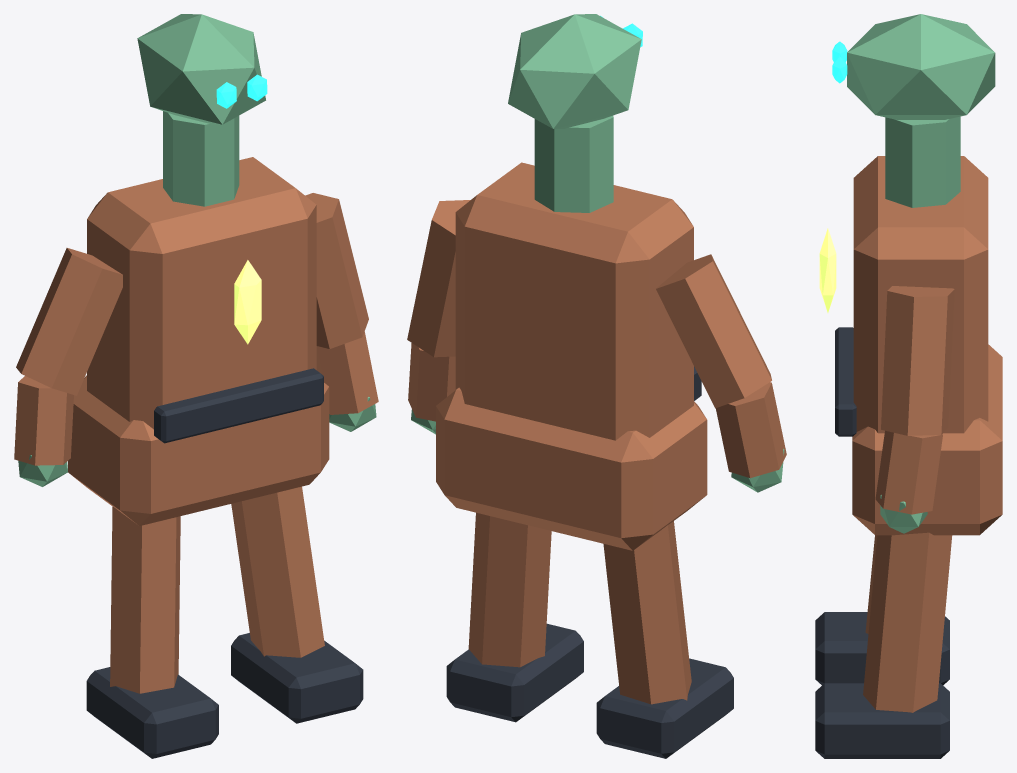
Rendered from npcs_001_seed78877.glb.
3 views of the same model, side by side, from view 1: azimuth 30°, elevation 25°; view 2: azimuth 150°, elevation 25°; view 3: azimuth 270°, elevation 25° (orthographic). The views are drawn at different scales.
Visible parts, largest first — view 1: npcs_001_seed78877; view 2: npcs_001_seed78877; view 3: npcs_001_seed78877.
Part boxes in pixels (bbox=[...]): npcs_001_seed78877: bbox=[14, 14, 378, 758]; npcs_001_seed78877: bbox=[407, 14, 786, 758]; npcs_001_seed78877: bbox=[815, 14, 1002, 758].
Size of the model in its own units: 0.9751 by 1.79 by 0.4387.
